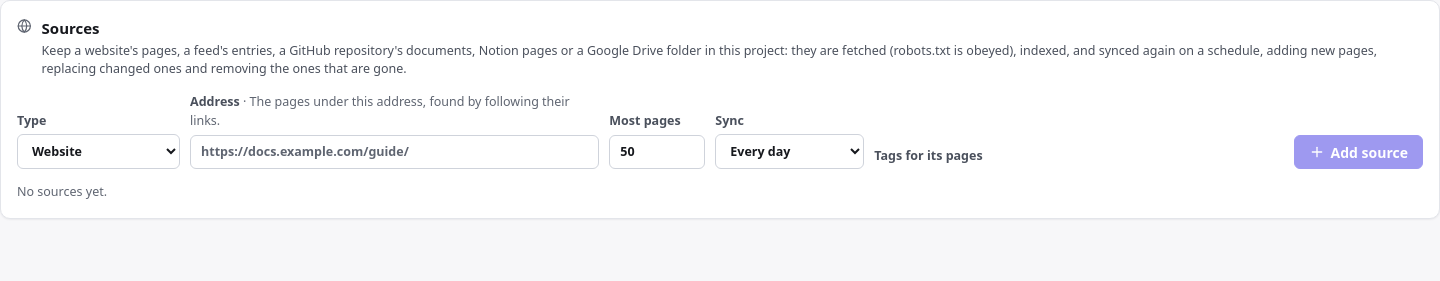
Test case: WebsiteSources › tells editors that only an admin adds Notion and Google Drive sources
Select "Notion" in the dropdown labelled "Type" at (98, 152), box [17,134,180,169]
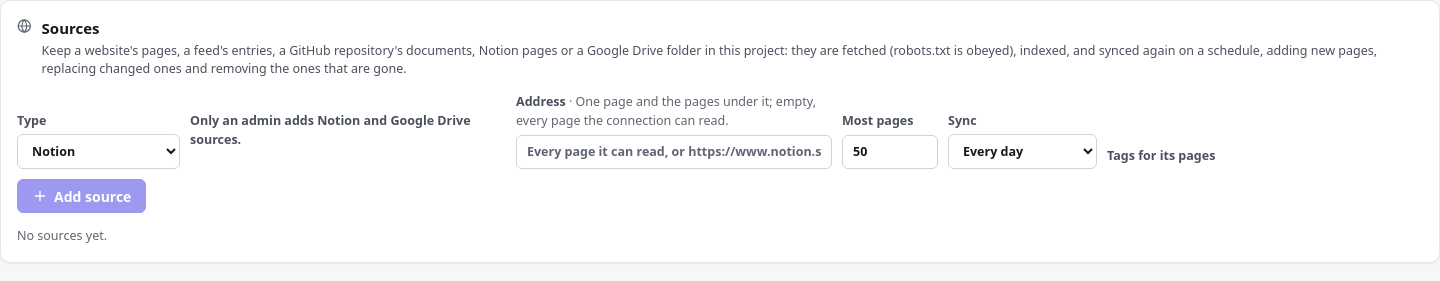
Expected: the submit button is disabled, [17,179,146,213]
Result: the message with class "no-connection" reads "Only an admin adds Notion and Google Drive sources." at [190,112,471,148]
